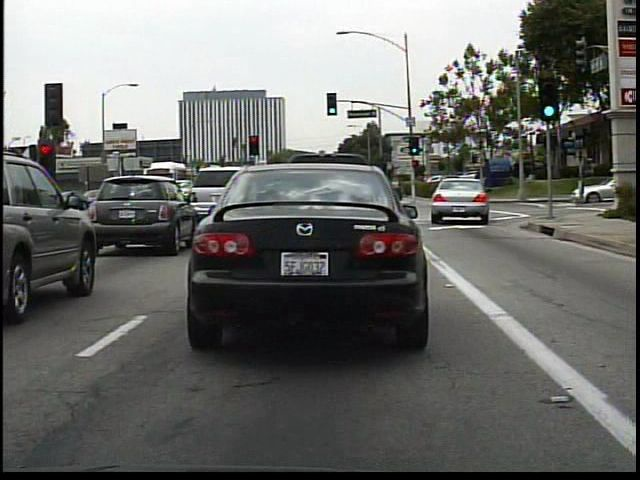person: (387, 172, 406, 205)
